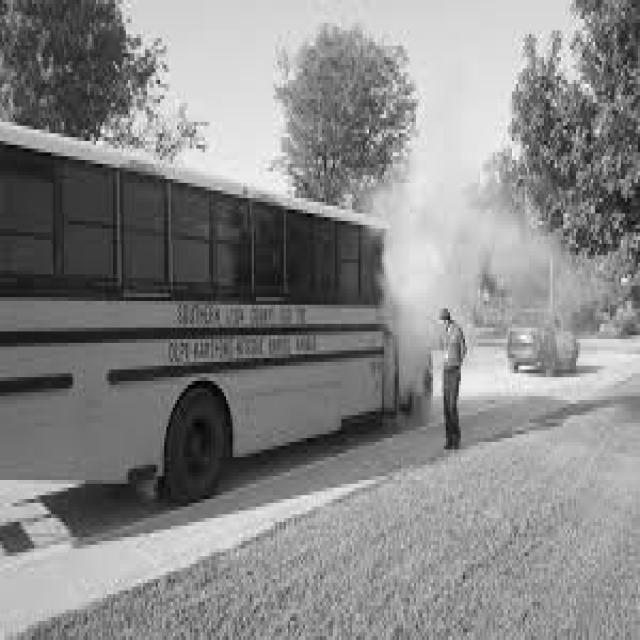Smoke: (368, 62, 594, 414)
